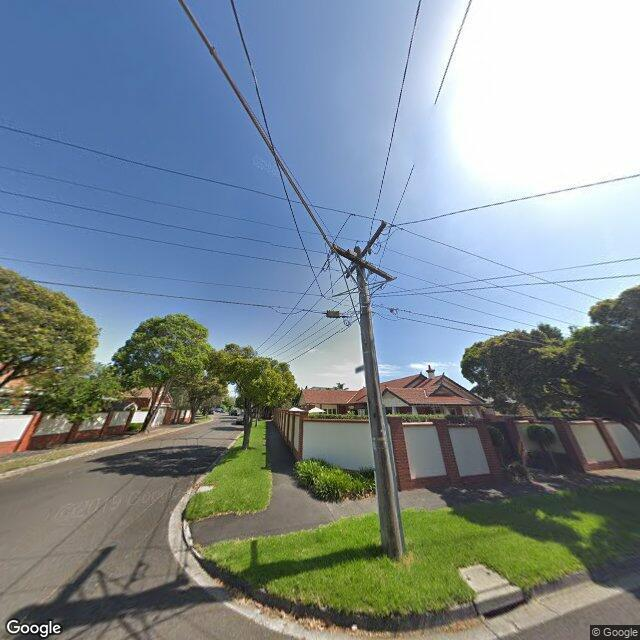crossarm: (346, 219, 388, 279), (334, 245, 396, 282)
timber-pole: (354, 245, 406, 560)
